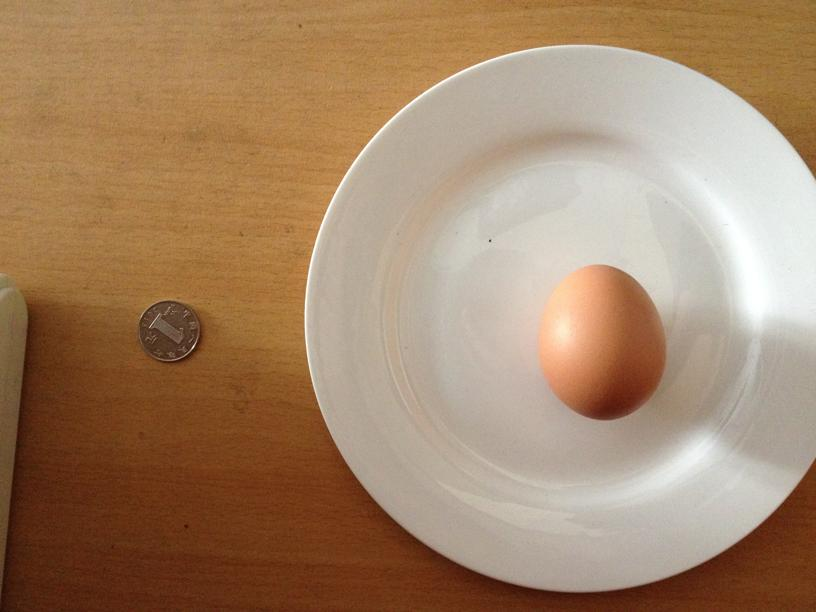coin: (138, 300, 200, 361)
egg: (539, 263, 665, 415)
